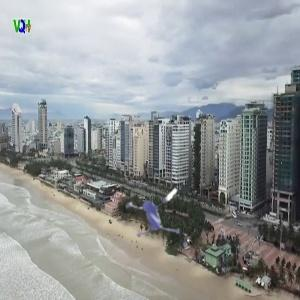drone: (118, 170, 204, 256)
